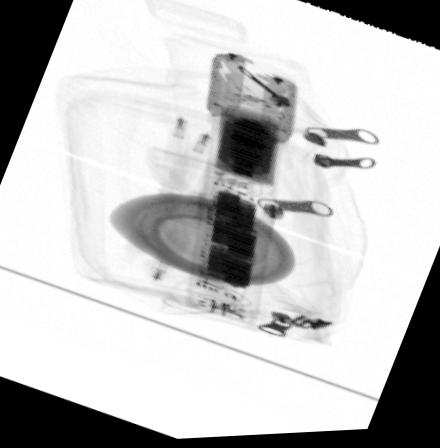Baton: (181, 52, 301, 331)
